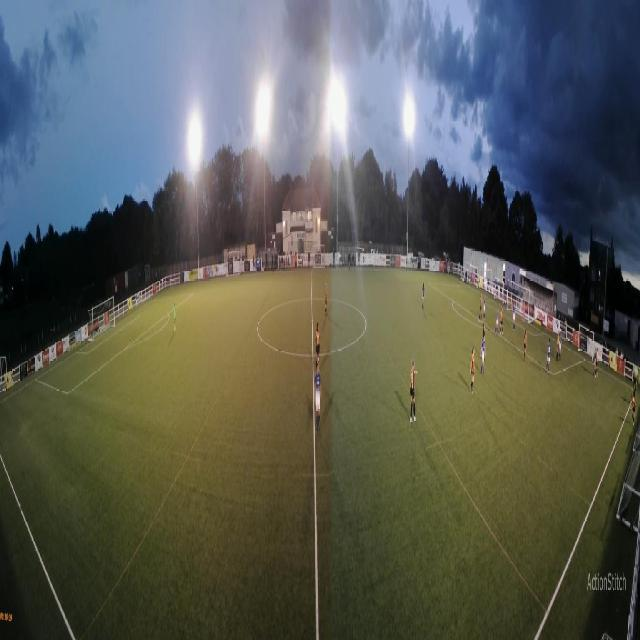player: (409, 358, 419, 425), (314, 362, 322, 436), (315, 320, 321, 374), (470, 347, 476, 396), (480, 335, 486, 379), (481, 323, 486, 361), (546, 338, 551, 375), (478, 294, 483, 325), (324, 281, 328, 318), (524, 327, 528, 362), (173, 298, 177, 332), (594, 347, 598, 378), (500, 306, 504, 336), (556, 332, 560, 361), (495, 308, 499, 336), (559, 333, 563, 361), (593, 349, 597, 377), (482, 295, 486, 321), (513, 303, 516, 333), (422, 282, 425, 311), (523, 301, 526, 323), (559, 328, 561, 338)
